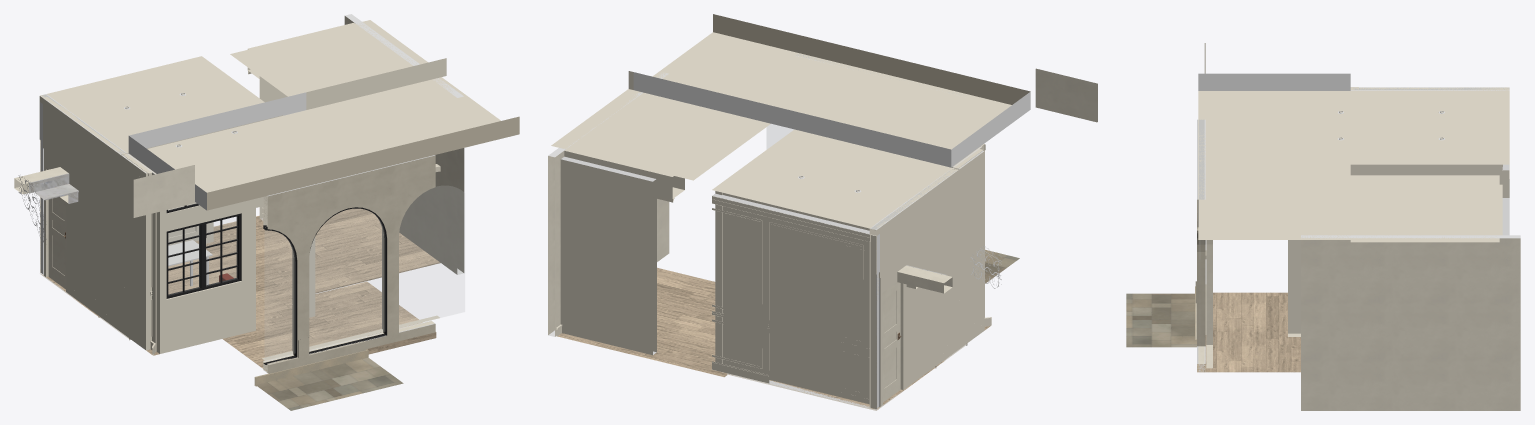
Rendered from office-west-91208998ac00.glb.
3 renders of one model, left to right at view 1: azimuth 30°, elevation 25°; view 2: azimuth 150°, elevation 25°; view 3: azimuth 270°, elevation 25°, orthographic. The views are drawn at different scales.
Visible parts, largest first — view 1: office-west-look-dbd60ee5c3733ed6, office-west-6a051330000fbca1, office-west-look-c9e78b9ec1bb39cd, office-west-look-2575515a05775d9e, office-west-2575515a05775d9e, office-west-look-c02a36d0521470a9, office-west-a822d30aa9e2c55a, office-west-look-5cbcc744e6f960f3, office-west-look-3b0077416469e01b, office-west-look-c374268555806af8, office-west-look-6a1144f4e43410bb, office-west-dbd60ee5c3733ed6 (+19 smaller); view 2: office-west-look-dbd60ee5c3733ed6, office-west-fca9ba73dd7496f7, office-west-6a051330000fbca1, office-west-look-19647d6da46c2b80, office-west-2575515a05775d9e, office-west-look-2575515a05775d9e, office-west-look-3b0077416469e01b, office-west-19647d6da46c2b80, office-west-look-6a1144f4e43410bb, office-west-look-34525a54e63b733b, office-west-dbd60ee5c3733ed6, office-west-80d276f58a4dc5cb (+9 smaller); view 3: office-west-look-6a1144f4e43410bb, office-west-look-dbd60ee5c3733ed6, office-west-2575515a05775d9e, office-west-look-2575515a05775d9e, office-west-look-c374268555806af8, office-west-dbd60ee5c3733ed6, office-west-look-982408871810a50e, office-west-7b11e78295c2e11d, office-west-look-c9e78b9ec1bb39cd, office-west-look-e54cb06e326b7f4f, office-west-a822d30aa9e2c55a, office-west-9cfa99552c9f4048 (+1 smaller).
Part boxes in pixels (x1,y1,x2,y2): office-west-look-dbd60ee5c3733ed6: (128, 77, 519, 210); office-west-6a051330000fbca1: (39, 94, 156, 351); office-west-look-c9e78b9ec1bb39cd: (263, 155, 435, 372); office-west-look-2575515a05775d9e: (230, 20, 446, 109); office-west-2575515a05775d9e: (40, 56, 282, 155); office-west-look-c02a36d0521470a9: (309, 209, 385, 349); office-west-a822d30aa9e2c55a: (156, 139, 307, 353); office-west-look-5cbcc744e6f960f3: (399, 186, 464, 327); office-west-look-3b0077416469e01b: (213, 208, 440, 298); office-west-look-c374268555806af8: (223, 281, 436, 370); office-west-look-6a1144f4e43410bb: (344, 14, 464, 274); office-west-dbd60ee5c3733ed6: (128, 116, 314, 173); office-west-look-dbd60ee5c3733ed6: (633, 14, 1030, 166); office-west-fca9ba73dd7496f7: (722, 193, 840, 396); office-west-6a051330000fbca1: (869, 146, 984, 408); office-west-look-19647d6da46c2b80: (560, 156, 656, 355); office-west-2575515a05775d9e: (712, 129, 958, 228); office-west-look-2575515a05775d9e: (551, 71, 770, 180); office-west-look-3b0077416469e01b: (557, 267, 727, 377); office-west-19647d6da46c2b80: (712, 193, 869, 407); office-west-look-6a1144f4e43410bb: (548, 72, 669, 336); office-west-look-34525a54e63b733b: (1035, 68, 1097, 122); office-west-dbd60ee5c3733ed6: (794, 105, 983, 167); office-west-80d276f58a4dc5cb: (883, 283, 900, 402); office-west-look-6a1144f4e43410bb: (1301, 235, 1520, 410); office-west-look-dbd60ee5c3733ed6: (1198, 73, 1350, 239); office-west-2575515a05775d9e: (1350, 87, 1509, 164); office-west-look-2575515a05775d9e: (1350, 175, 1499, 242); office-west-look-c374268555806af8: (1197, 292, 1300, 372); office-west-dbd60ee5c3733ed6: (1288, 90, 1350, 164); office-west-look-982408871810a50e: (1126, 293, 1196, 347); office-west-7b11e78295c2e11d: (1288, 161, 1502, 336); office-west-look-c9e78b9ec1bb39cd: (1197, 119, 1205, 371); office-west-look-e54cb06e326b7f4f: (1206, 240, 1212, 368); office-west-a822d30aa9e2c55a: (1288, 91, 1295, 333); office-west-9cfa99552c9f4048: (1350, 164, 1478, 169).
Size of the model in its own units: 6.87 by 3.92 by 6.21.
Materials: 26 (9 with a texture image).
